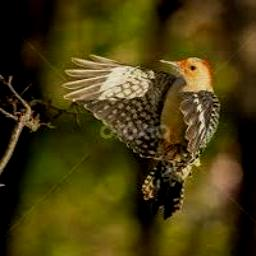Woodpecker: (63, 54, 221, 219)
